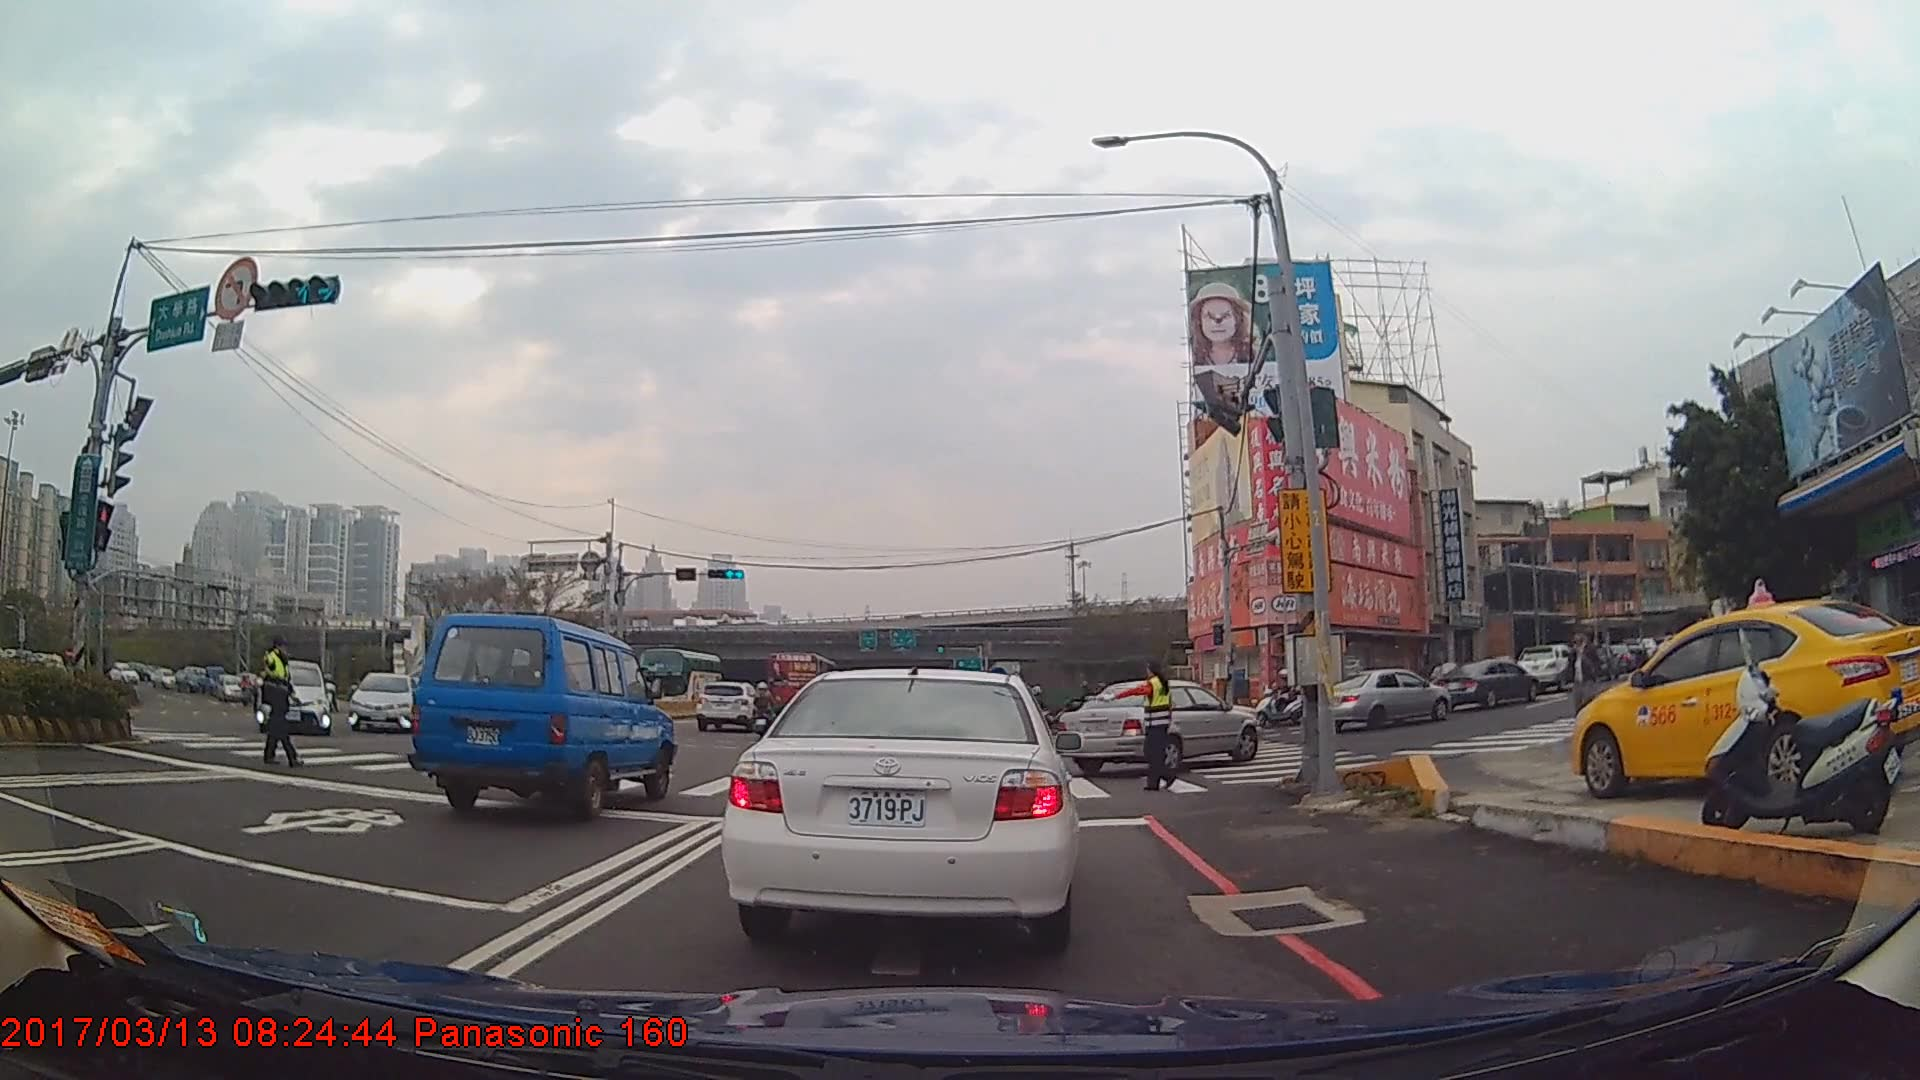pedestrian: (1088, 659, 1175, 792), (249, 635, 297, 765), (1567, 628, 1608, 736)
rider: (1254, 667, 1308, 726), (1052, 679, 1097, 734), (751, 681, 778, 738), (1030, 686, 1055, 737)
vehicle: (722, 657, 1080, 946), (1573, 596, 1920, 801), (408, 609, 674, 819), (1060, 677, 1261, 778), (1316, 668, 1451, 732), (259, 659, 330, 735), (765, 650, 841, 719), (1443, 658, 1541, 711), (635, 647, 723, 707), (346, 672, 416, 734), (692, 680, 765, 733), (1515, 642, 1579, 690)
